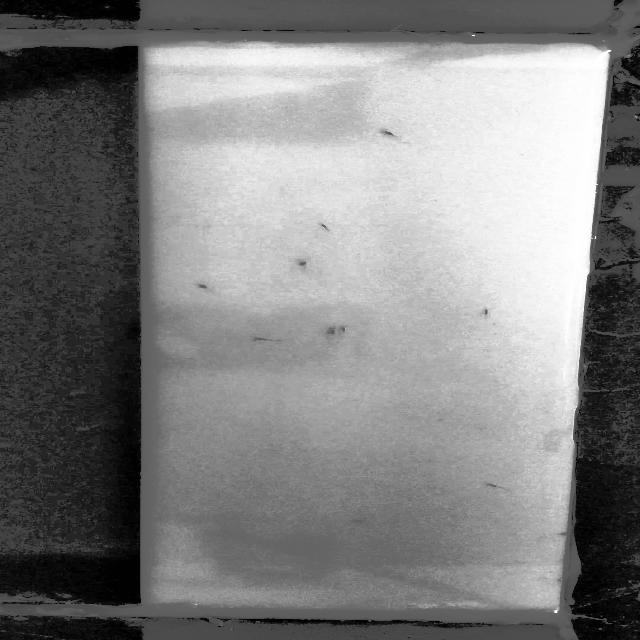shrimp: (241, 331, 282, 346), (285, 254, 315, 274), (345, 513, 374, 532), (476, 480, 514, 493), (190, 278, 216, 296), (308, 222, 344, 234), (469, 304, 495, 320), (369, 125, 398, 139), (338, 322, 354, 338), (327, 322, 338, 339)
